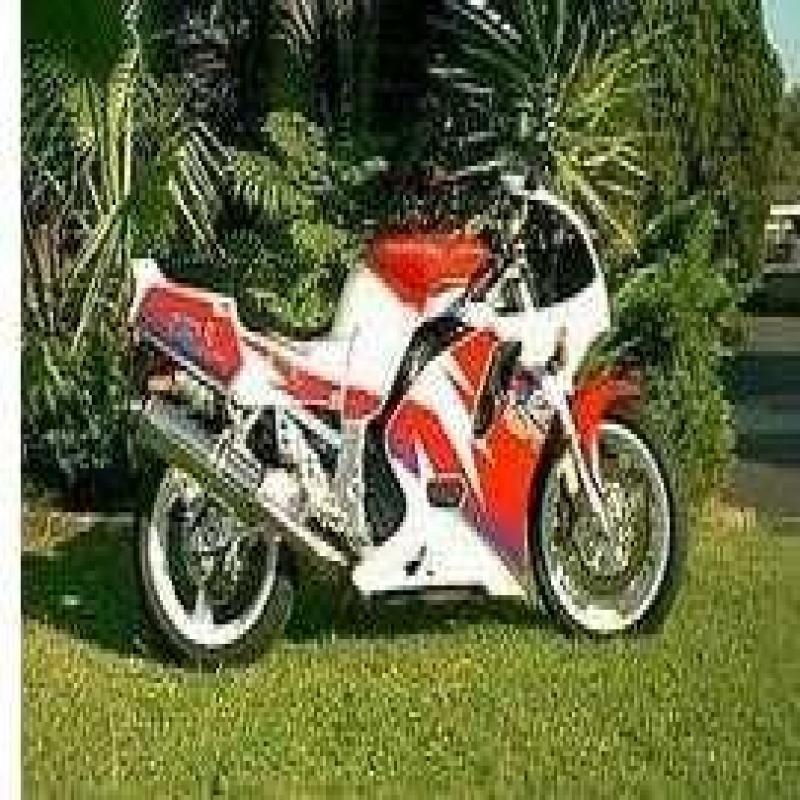bike: (114, 133, 671, 718)
